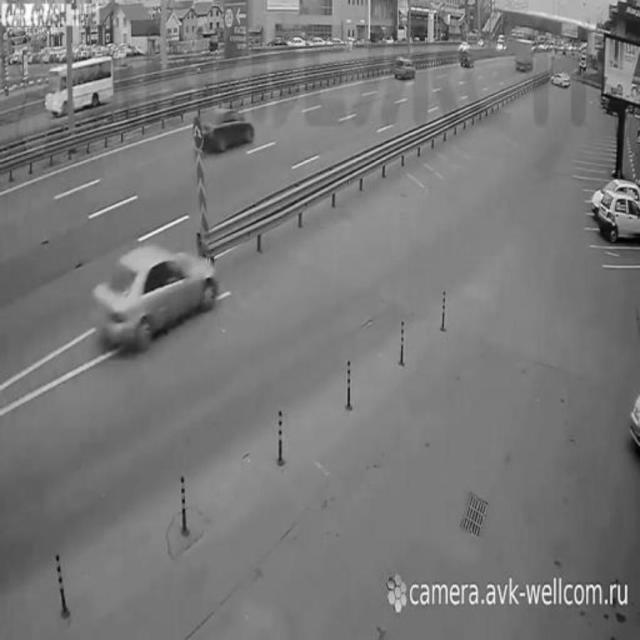vehicle: (97, 244, 217, 348), (45, 55, 115, 113), (200, 103, 256, 153), (598, 191, 640, 242), (514, 36, 534, 72), (392, 56, 419, 82), (551, 66, 571, 90), (459, 50, 475, 70)
